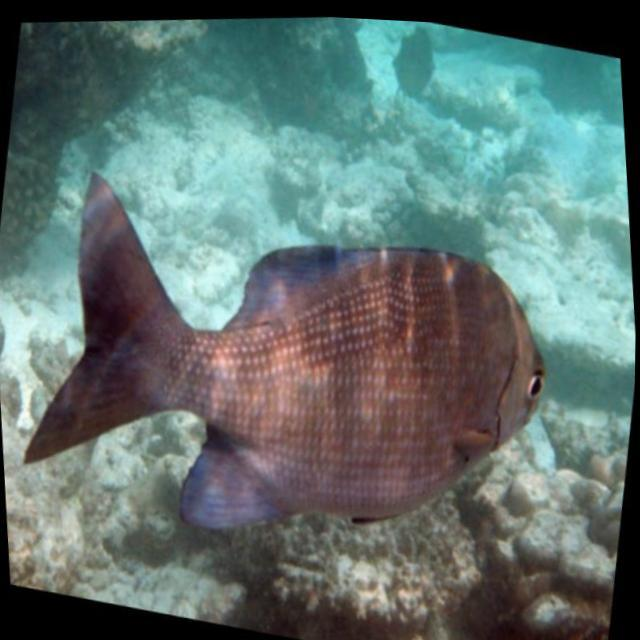Dead Coral: (61, 2, 599, 306), (420, 410, 636, 640)
